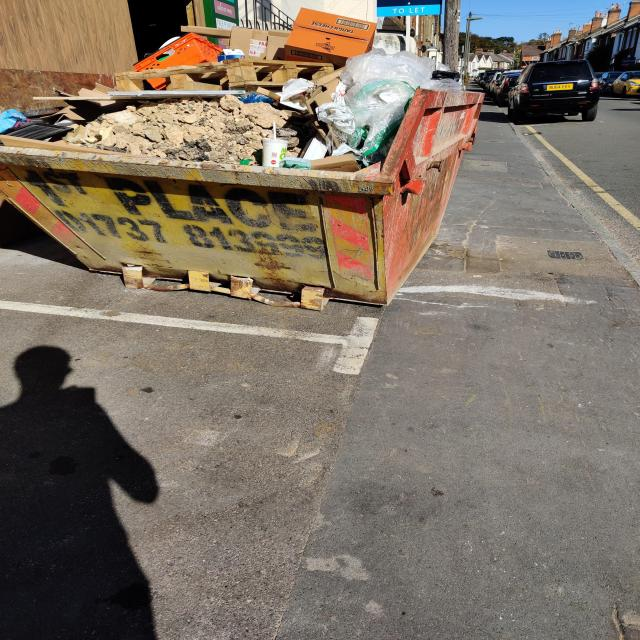litter: (260, 121, 287, 172)
